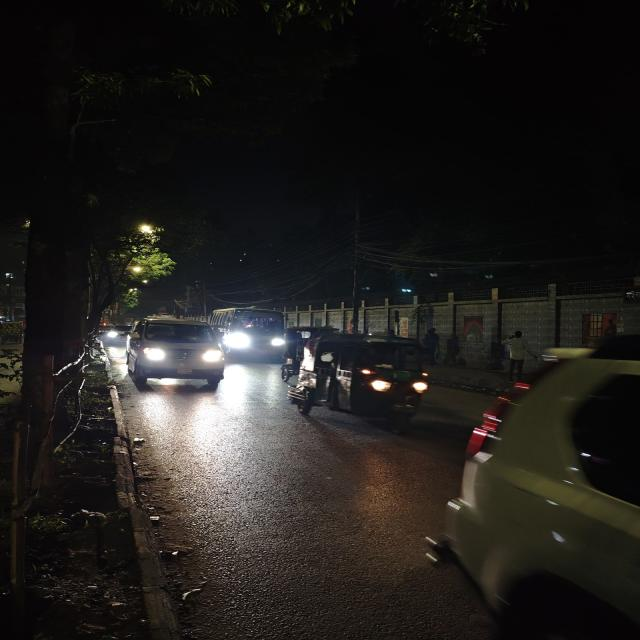bus: (224, 308, 286, 360)
car: (121, 316, 230, 393)
cng: (303, 334, 435, 424)
pedestrian: (500, 329, 534, 380), (419, 326, 445, 366)
rickshaw: (279, 328, 316, 378)
